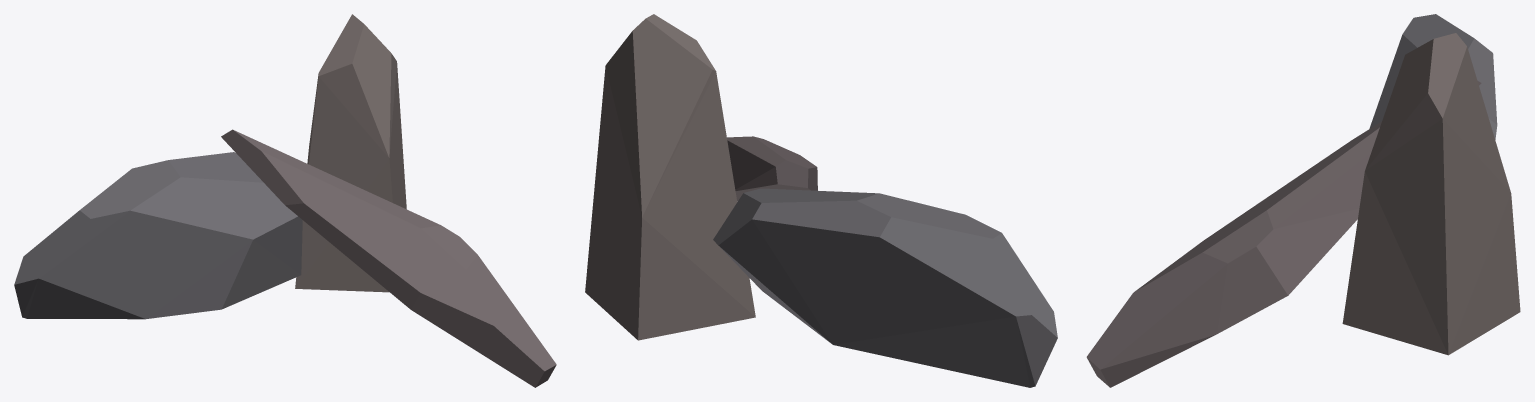
Rendered from Rocks_Sharp_m_01.fbx.
3 views of the same model, side by side, from view 1: azimuth 30°, elevation 25°; view 2: azimuth 150°, elevation 25°; view 3: azimuth 270°, elevation 25° (orthographic). The views are drawn at different scales.
Parts seen in each view (by area): view 1: Rocks_Sharp_m_01; view 2: Rocks_Sharp_m_01; view 3: Rocks_Sharp_m_01.
Part boxes in pixels (x1=…): Rocks_Sharp_m_01: x1=14, y1=14, x2=556, y2=387; Rocks_Sharp_m_01: x1=585, y1=14, x2=1057, y2=387; Rocks_Sharp_m_01: x1=1086, y1=14, x2=1520, y2=387.
Size of the model in its own units: 1.97 by 1.3 by 1.57.
